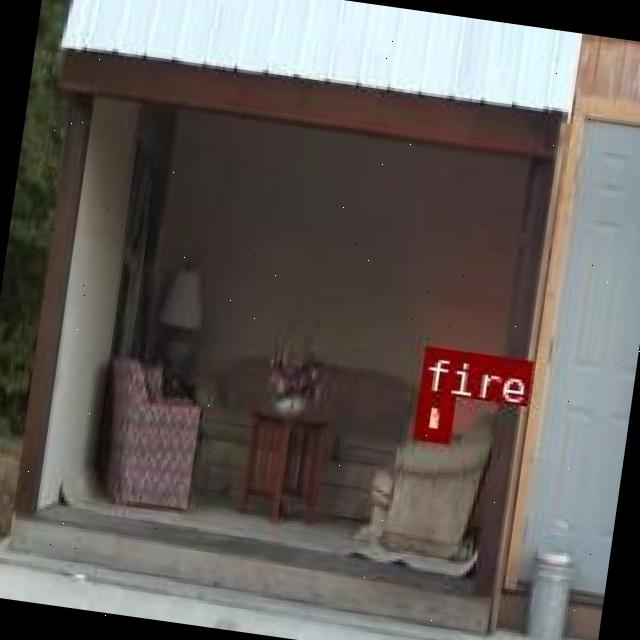fire: (414, 390, 452, 440)
